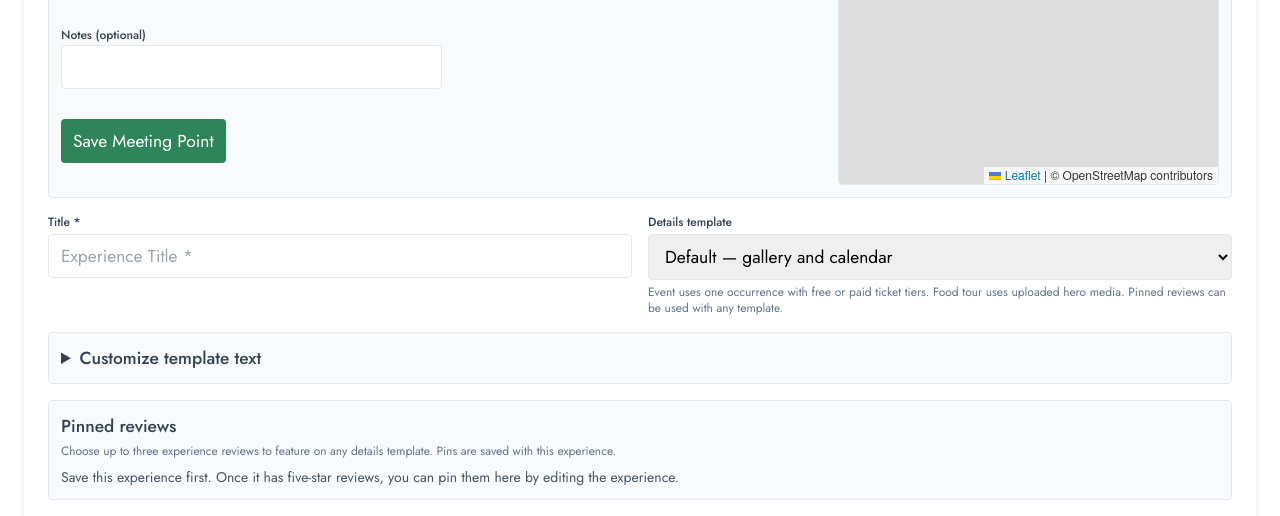
CreateExperience — create mode (default) › selects a validated details template, defaulting to legacy layout
The image size is (1280, 516).
(page scrolled)
Select "Event — single date, paid or free admission" in the dropdown labelled "Details template" at (940, 257), box 648,234 -> 1232,280
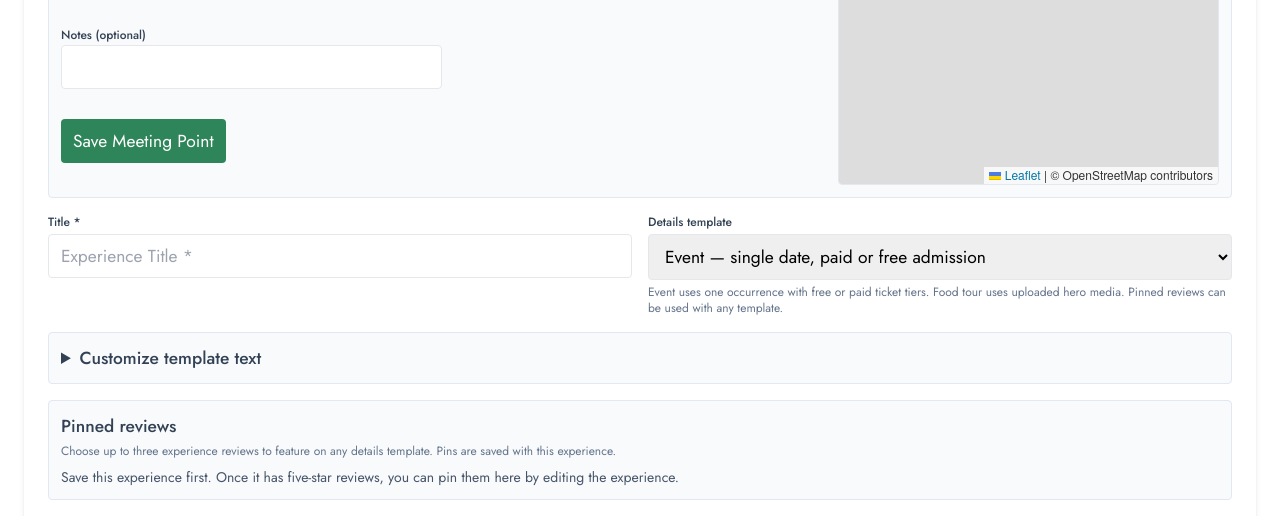
Check: the text "Event uses one occurrence with free or paid ticket tiers" is shown, box 648,283 -> 1226,317
Click the heading "Customize template text" at (170, 358), box 79,345 -> 261,371
(page scrolled)
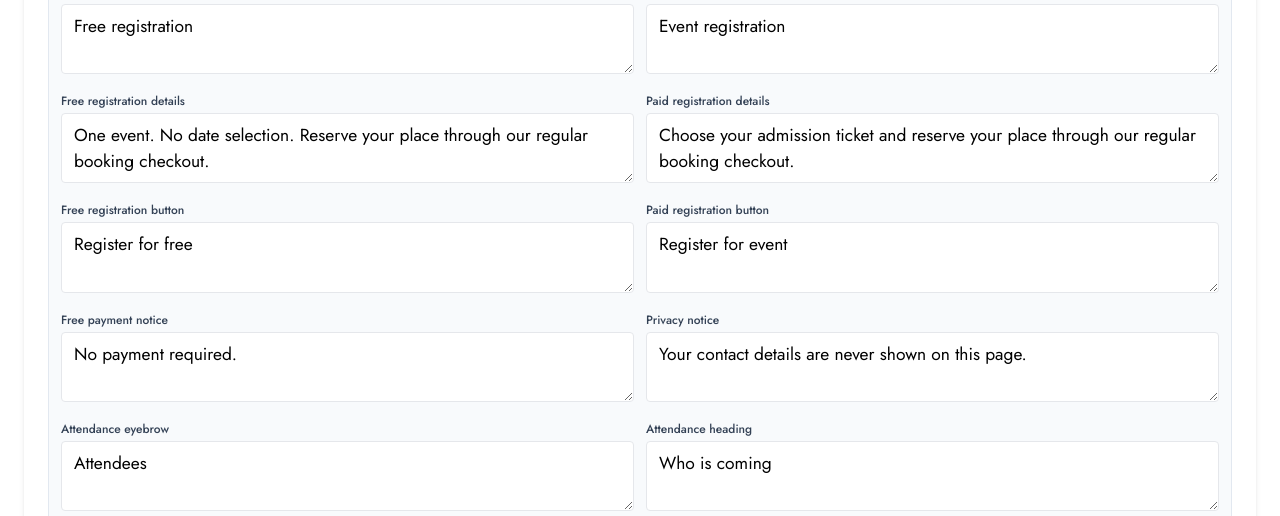
Check: the text box labelled "Paid registration button" holds "Register for event", box 646,222 -> 1219,292
